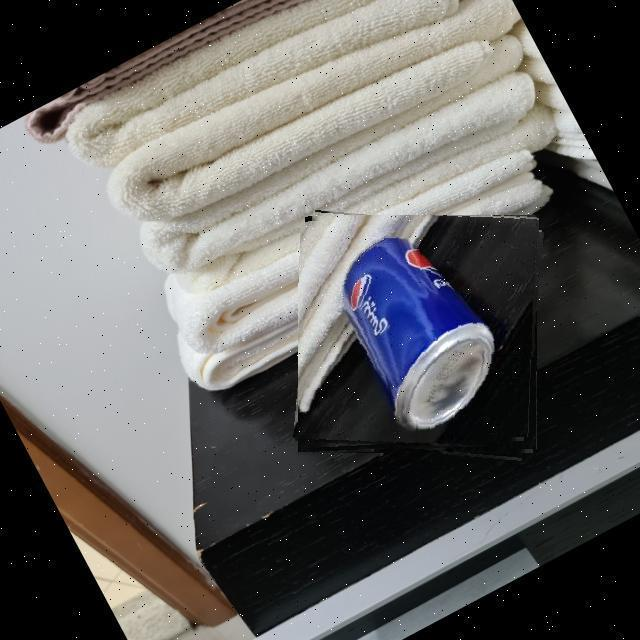recyclable: (298, 215, 540, 456)
